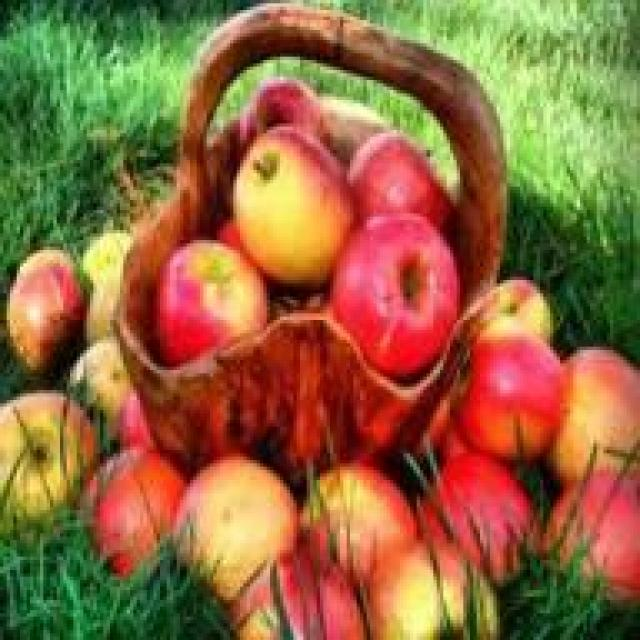apple: (220, 133, 357, 277), (180, 453, 297, 610), (340, 214, 470, 354), (410, 436, 540, 566), (156, 247, 276, 370), (83, 440, 190, 573), (553, 330, 637, 483), (456, 337, 566, 453), (303, 456, 420, 556), (3, 397, 97, 520), (350, 120, 457, 227), (230, 554, 370, 634), (543, 474, 640, 584), (240, 73, 333, 180), (384, 543, 494, 627), (60, 337, 153, 433), (10, 257, 90, 363), (83, 233, 147, 330)
